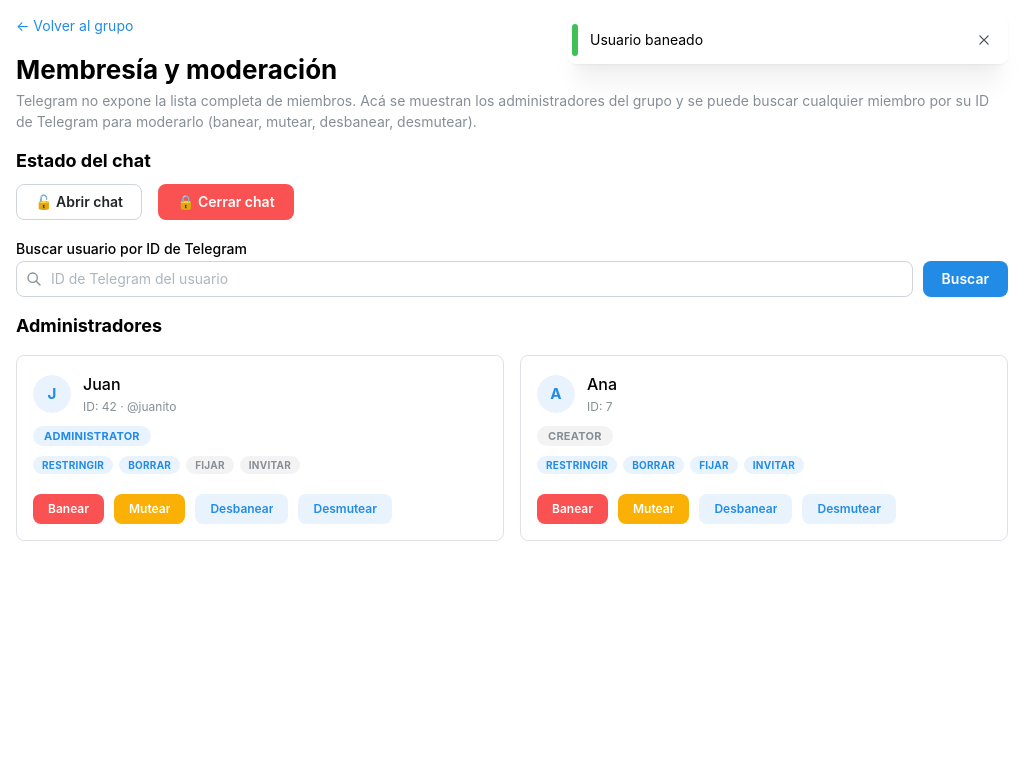
Test: GroupUsersPage › mutea un usuario con notification directa (sin Modal)
What coordinates should you click on to do the following:
click the button "Mutear" below "administrator"
I would click on:
 (150, 509)
Its box is 114,494 -> 185,524.
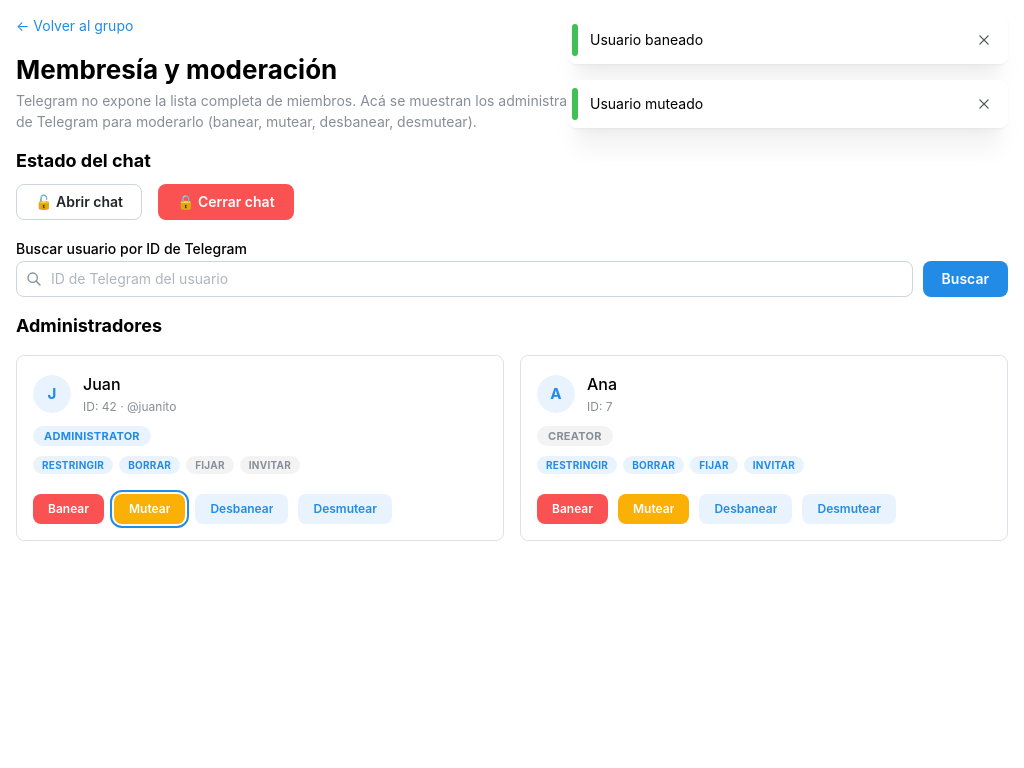
Expected: the text "Usuario muteado" is shown, 590,95 -> 703,112
